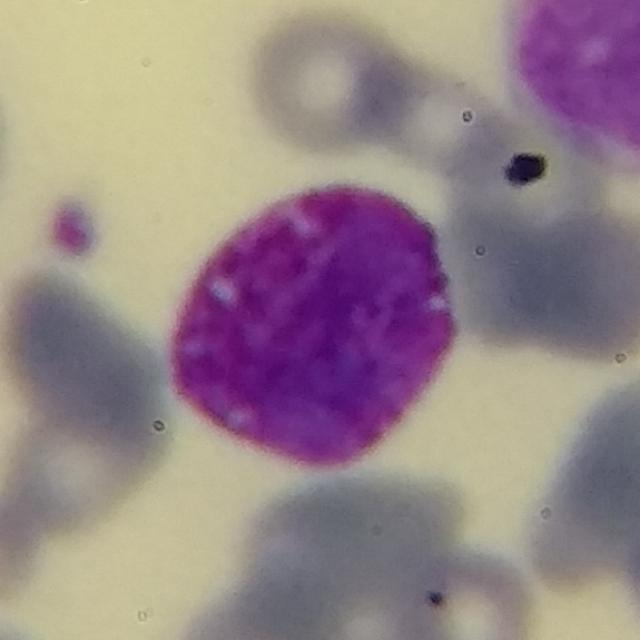baso: (169, 167, 467, 477)
